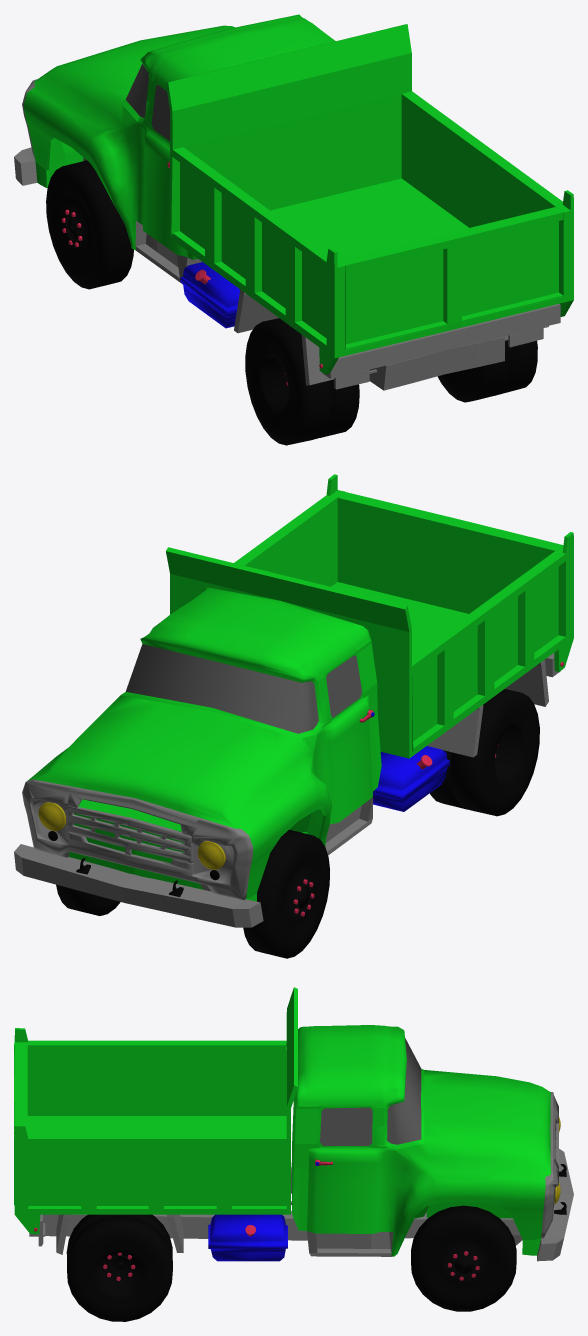
File: Zil130_v2.fbx
3 renders of one model, top to bottom at view 1: azimuth 30°, elevation 25°; view 2: azimuth 150°, elevation 25°; view 3: azimuth 270°, elevation 25°, orthographic. The views are drawn at different scales.
Parts seen in each view (by area): view 1: Kuzov, Kabina, LZ, FL, BalkaKuzov, RZ, Rama, BakLeft, Brizgoviki, Okna, Porogi, Bamper; view 2: Kuzov, Kabina, Rehetka, Okna, LZ, FL, Bamper, BakLeft, Brizgoviki, Porogi, FR, FrontFaraLeft (+1 smaller); view 3: Kuzov, Kabina, RZ, FR, Okna, BakRight, Rama, Porogi, Bamper, Rehetka, Brizgoviki.
Part boxes in pixels (box(x1,y1,x2,y2)): Kuzov: box(166, 24, 573, 374); Kabina: box(23, 14, 335, 259); LZ: box(245, 318, 359, 445); FL: box(46, 160, 133, 289); BalkaKuzov: box(322, 304, 560, 378); RZ: box(437, 340, 537, 402); Rama: box(83, 158, 504, 390); BakLeft: box(180, 262, 239, 328); Brizgoviki: box(234, 289, 548, 385); Okna: box(125, 64, 169, 140); Porogi: box(135, 221, 187, 284); Bamper: box(14, 147, 37, 185); Kuzov: box(166, 474, 573, 758); Kabina: box(27, 587, 381, 901); Rehetka: box(22, 778, 253, 900); Okna: box(126, 644, 361, 733); LZ: box(430, 689, 539, 816); FL: box(243, 829, 329, 958); Bamper: box(14, 844, 263, 927); BakLeft: box(373, 746, 449, 811); Brizgoviki: box(427, 660, 548, 757); Porogi: box(325, 797, 372, 855); FR: box(56, 884, 120, 915); FrontFaraLeft: box(38, 802, 66, 831); Kuzov: box(14, 987, 297, 1234); Kabina: box(291, 1025, 550, 1256); RZ: box(66, 1214, 172, 1321); FR: box(411, 1205, 516, 1311); Okna: box(320, 1038, 421, 1145); BakRight: box(208, 1214, 287, 1261); Rama: box(43, 1167, 520, 1240); Porogi: box(307, 1231, 393, 1256); Bamper: box(537, 1149, 573, 1261); Rehetka: box(541, 1092, 558, 1238); Brizgoviki: box(56, 1214, 183, 1254).
Size of the model in its own units: 245 by 275 by 585.
